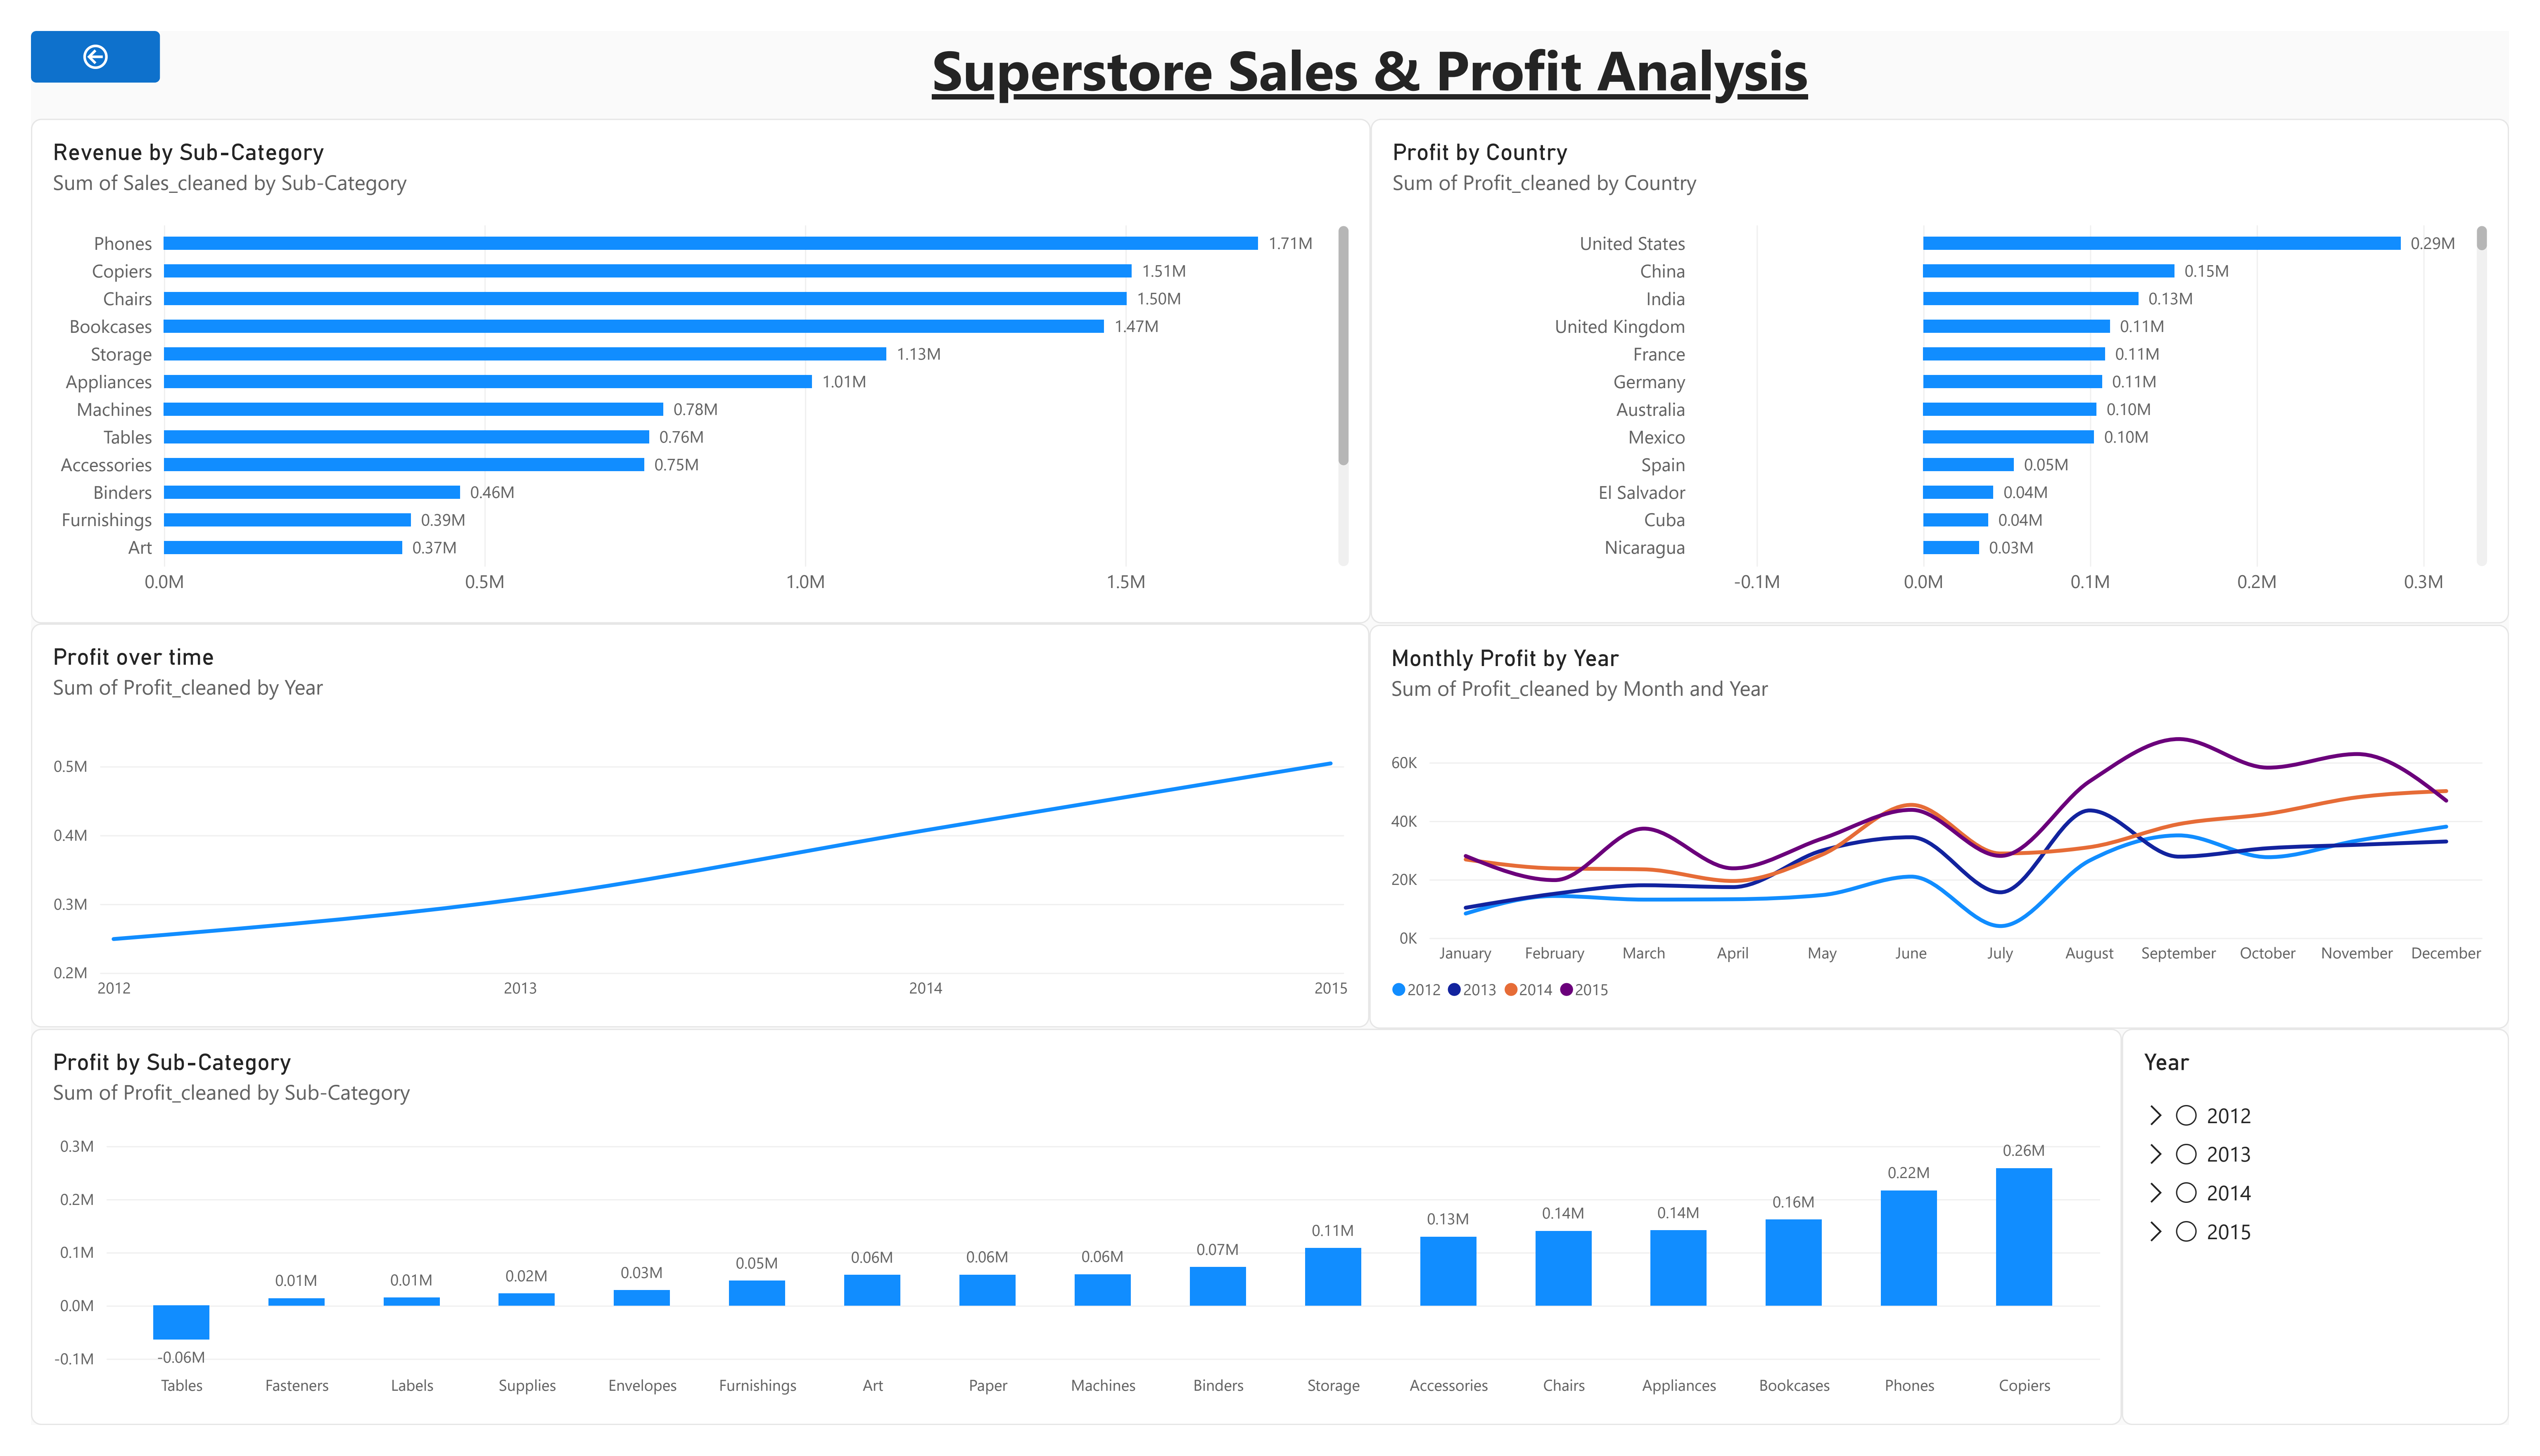

Layout of this report page (visuals, bound fields, positions):
{"tool":"powerbi","page":{"name":"Page 1","canvas":[1920,1080],"ordinal":0},"visuals":[{"type":"actionButton","box":[0,0,100,40],"z":0},{"type":"clusteredBarChart","title":"Revenue by Sub-Category","fields":{"Category":["orders_cleaned.Sub-Category"],"Y":["Sum(orders_cleaned.Sales_cleaned)"]},"box":[0,67.5,1037.5,391.2],"z":1000},{"type":"clusteredBarChart","title":"Profit by Country","fields":{"Category":["orders_cleaned.Country","orders_cleaned.State","orders_cleaned.City"],"Y":["Sum(orders_cleaned.Profit_cleaned)"]},"box":[1037.5,67.5,882.5,391.2],"z":2000},{"type":"lineChart","title":"Profit over time","fields":{"Category":["orders_cleaned.order_date_cleaned.Variation.Date Hierarchy.Year","orders_cleaned.order_date_cleaned.Variation.Date Hierarchy.Quarter","orders_cleaned.order_date_cleaned.Variation.Date Hierarchy.Month","orders_cleaned.order_date_cleaned.Variation.Date Hierarchy.Day"],"Y":["Sum(orders_cleaned.Profit_cleaned)"]},"box":[0,459,1037.4,312.9],"z":3000},{"type":"lineChart","title":"Monthly Profit by Year","fields":{"Category":["orders_cleaned.order_date_cleaned.Variation.Date Hierarchy.Month"],"Series":["orders_cleaned.order_date_cleaned.Variation.Date Hierarchy.Year"],"Y":["Sum(orders_cleaned.Profit_cleaned)"]},"box":[1037.4,459,883,312.9],"z":4000},{"type":"clusteredColumnChart","title":"Profit by Sub-Category","fields":{"Category":["orders_cleaned.Sub-Category Hierarchy.Sub-Category","orders_cleaned.Sub-Category Hierarchy.Product Name"],"Y":["Sum(orders_cleaned.Profit_cleaned)"]},"box":[0,773.3,1620,306.7],"z":5000},{"type":"listSlicer","fields":{"Values":["orders_cleaned.order_date_cleaned.Variation.Date Hierarchy.Year","orders_cleaned.order_date_cleaned.Variation.Date Hierarchy.Quarter","orders_cleaned.order_date_cleaned.Variation.Date Hierarchy.Month","orders_cleaned.order_date_cleaned.Variation.Date Hierarchy.Day"]},"box":[1620,773.3,300,306.7],"z":6000},{"type":"textbox","box":[630,0,815,68.3],"z":7000}]}

Visuals, with their boxes on the page's 1920x1080 design canvas (x1, y1, x2, y2). These are canvas units, not pixel positions in the 2540x1456 screenshot, which may show the page scaled, cropped or inside an application window:
actionButton: (0, 0, 100, 40)
"Revenue by Sub-Category" clusteredBarChart: (0, 68, 1038, 459)
"Profit by Country" clusteredBarChart: (1038, 68, 1920, 459)
"Profit over time" lineChart: (0, 459, 1037, 772)
"Monthly Profit by Year" lineChart: (1037, 459, 1920, 772)
"Profit by Sub-Category" clusteredColumnChart: (0, 773, 1620, 1080)
listSlicer - orders_cleaned.order_date_cleaned.Variation.Date Hierarchy.Year x orders_cleaned.order_date_cleaned.Variation.Date Hierarchy.Quarter: (1620, 773, 1920, 1080)
textbox: (630, 0, 1445, 68)
